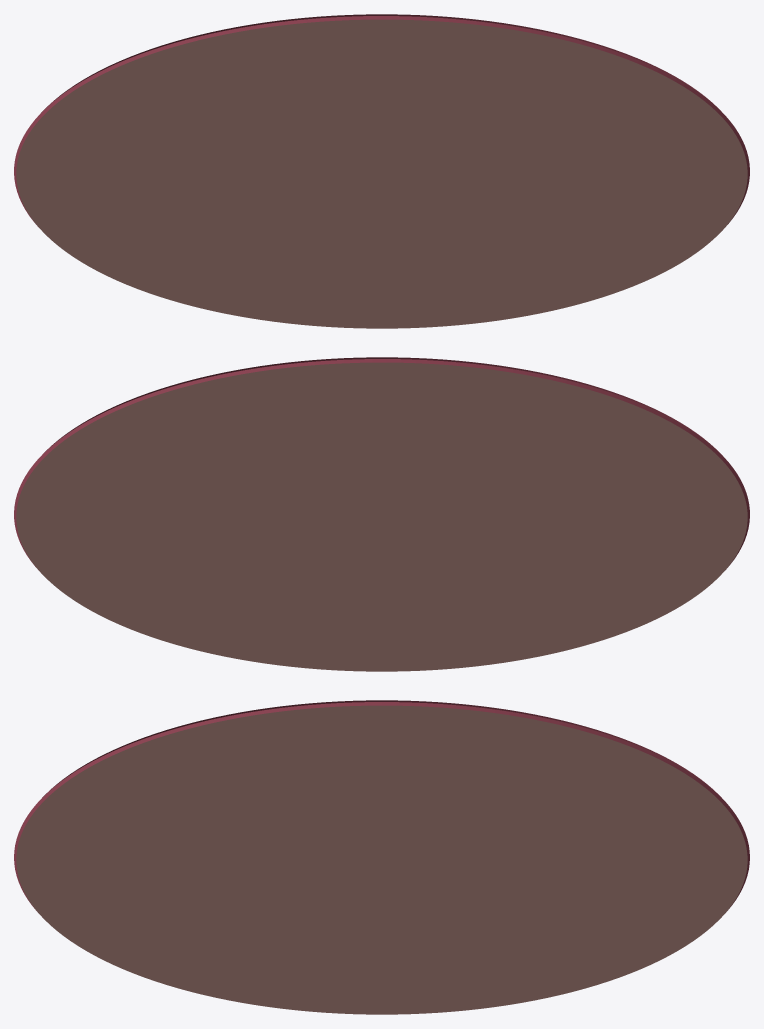
The model's file is lounge_piano_carpet.glb.
The picture shows the model from 3 angles, top to bottom: view 1: azimuth 30°, elevation 25°; view 2: azimuth 150°, elevation 25°; view 3: azimuth 270°, elevation 25°; orthographic projection.
Visible parts, largest first — view 1: Carpet_Backing, Carpet_Edge; view 2: Carpet_Backing, Carpet_Edge; view 3: Carpet_Backing, Carpet_Edge.
Part boxes in pixels (x1,y1,x2,y2): Carpet_Backing: [16, 19, 747, 328]; Carpet_Edge: [14, 14, 749, 230]; Carpet_Backing: [16, 362, 747, 671]; Carpet_Edge: [14, 357, 749, 573]; Carpet_Backing: [16, 705, 747, 1014]; Carpet_Edge: [14, 700, 749, 917].
Size of the model in its own units: 3.2 by 0.025 by 3.2.
